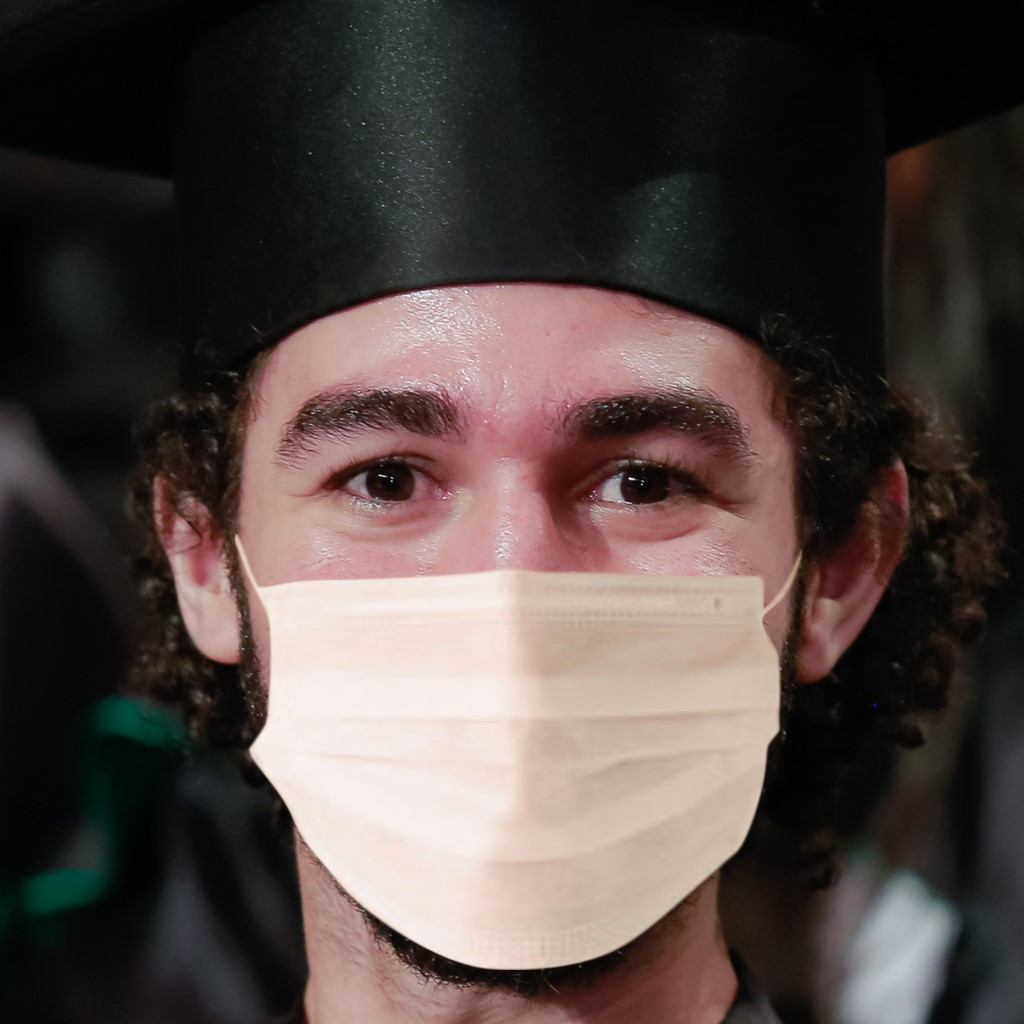con_mascara: (157, 275, 842, 990)
